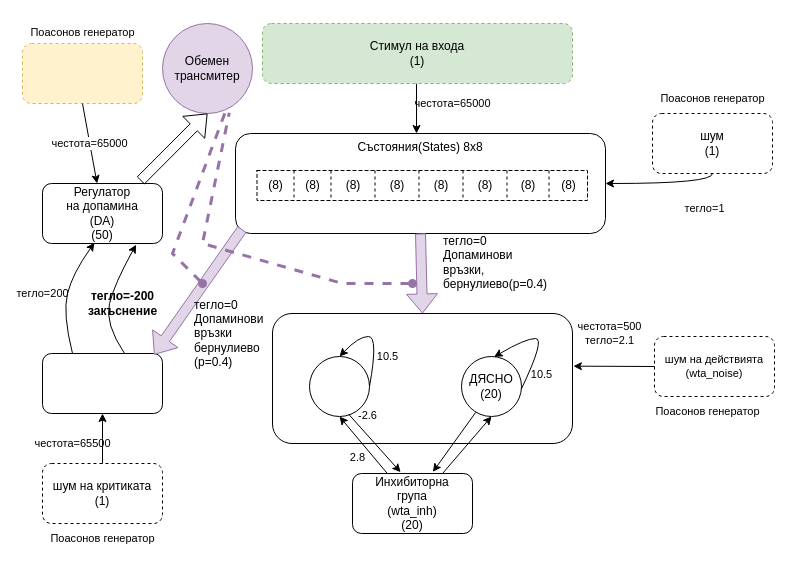
Some shapes in this 795 by 570 pixel diagram are drawn without their labels. Each missing label, with the box of its shape:
Избор на действие (Actions, WTA): (272, 312, 572, 444)
Критика(Critic) (50): (42, 352, 162, 414)
ЛЯВО (20): (308, 356, 370, 416)
стимулация за поощрение (1): (22, 42, 142, 104)
